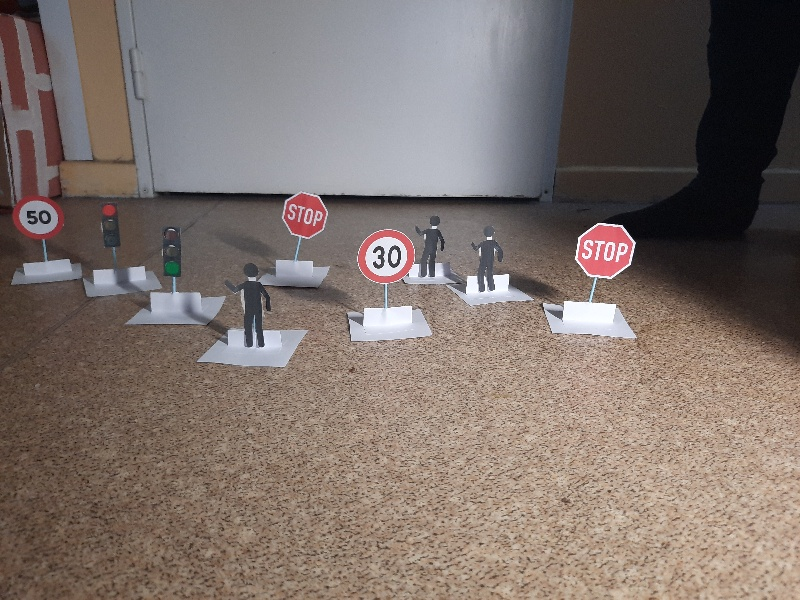Green: (162, 230, 181, 278)
Limit 30: (356, 228, 412, 283)
Limit 50: (12, 197, 62, 237)
Person: (224, 262, 273, 347), (471, 228, 502, 289), (415, 219, 446, 273)
Red: (98, 204, 118, 247)
Stop: (577, 222, 637, 277), (282, 191, 326, 235)
